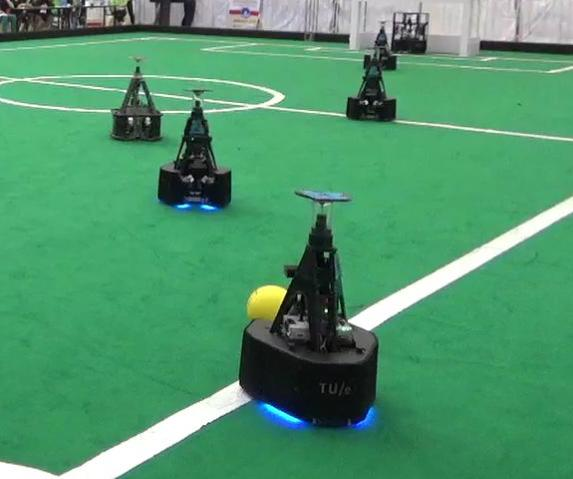robot: (231, 181, 381, 432), (154, 89, 237, 208), (106, 52, 164, 145), (345, 43, 400, 123)
